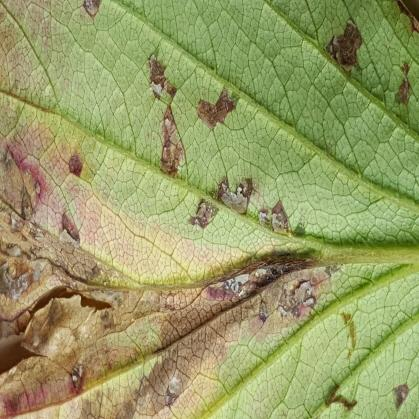Angular Leafspot: (0, 0, 418, 418)
